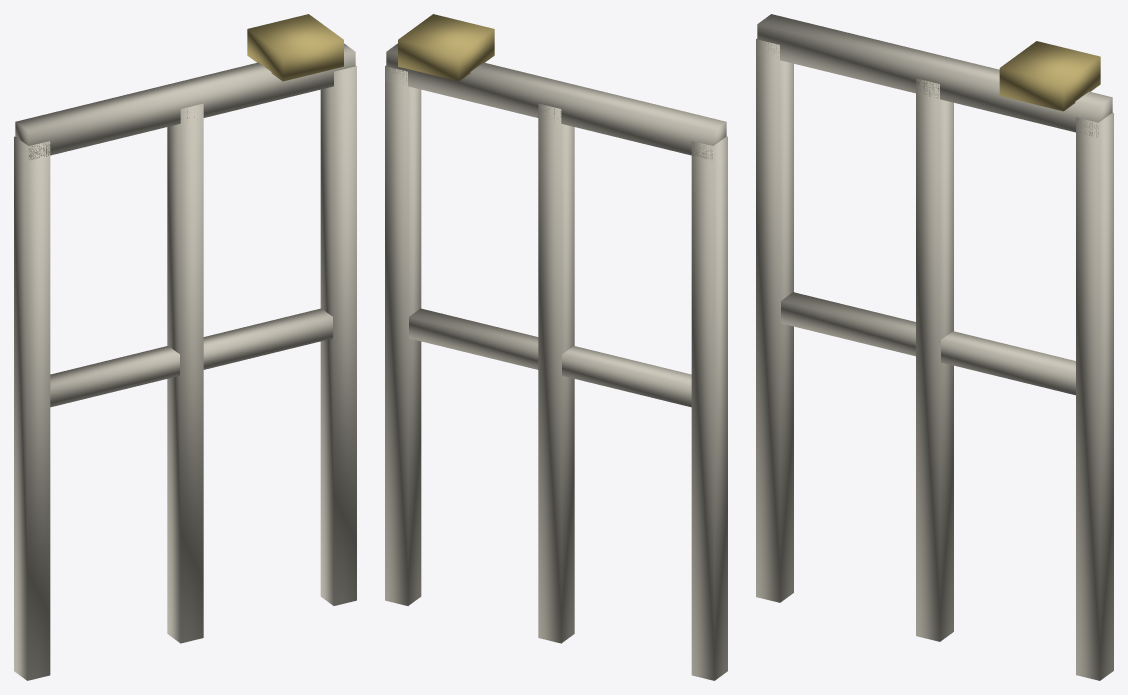
Rendered from civic_ladder_break_l60.glb.
3 renders of one model, left to right at view 1: azimuth 30°, elevation 25°; view 2: azimuth 150°, elevation 25°; view 3: azimuth 330°, elevation 25°, orthographic. The views are drawn at different scales.
Parts seen in each view (by area): view 1: world; view 2: world; view 3: world.
Boxes of the visible parts, bbox=[...] form: world: bbox=[14, 14, 356, 680]; world: bbox=[385, 14, 727, 680]; world: bbox=[756, 14, 1113, 680].
Bounding box in the file's own units: 0.645 × 1.08 × 0.12.
